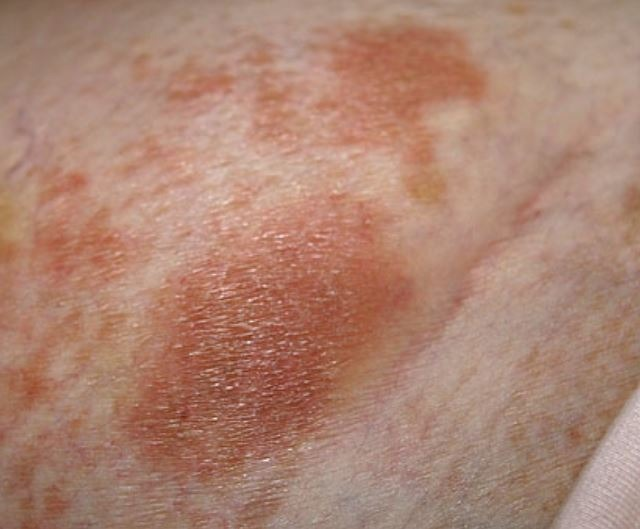Psoriasis: (129, 200, 429, 511), (200, 10, 515, 196)
